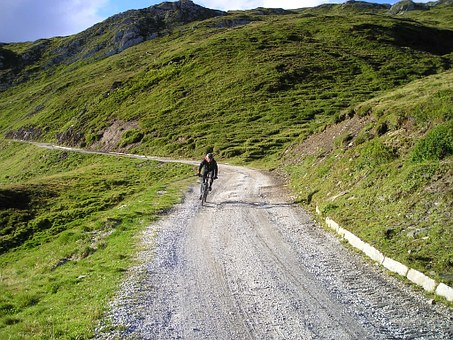bikerider: (192, 148, 221, 210)
